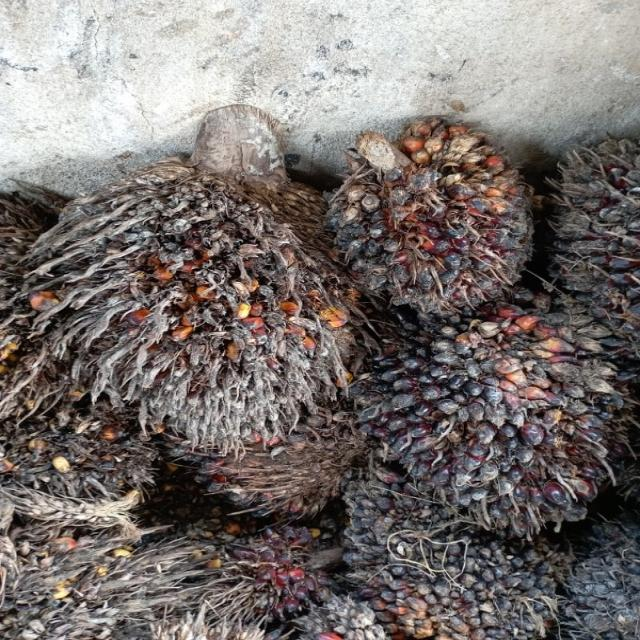fraksi 00: (285, 66, 582, 350), (343, 282, 640, 555)
fraksi 4: (0, 107, 406, 489)
